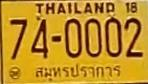0: (105, 16, 122, 56), (65, 19, 82, 58), (85, 18, 102, 57)
2: (125, 18, 142, 57)
4: (31, 18, 48, 58)
7: (9, 18, 27, 59)
SPK: (33, 62, 124, 82)
